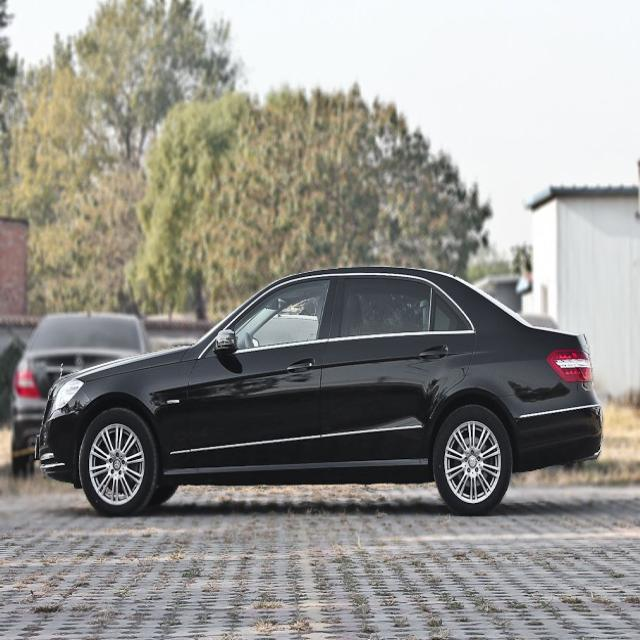back_left_side_light: (545, 346, 595, 382)
door: (338, 274, 480, 480)
front_bumper: (36, 414, 80, 484)
front_left_side_door: (185, 271, 340, 482)
front_left_side_light: (44, 375, 86, 420)
front_left_side_mirror: (213, 327, 240, 359)
rear_bumper: (495, 378, 604, 467)
wheel: (434, 403, 512, 514), (80, 406, 156, 515)
